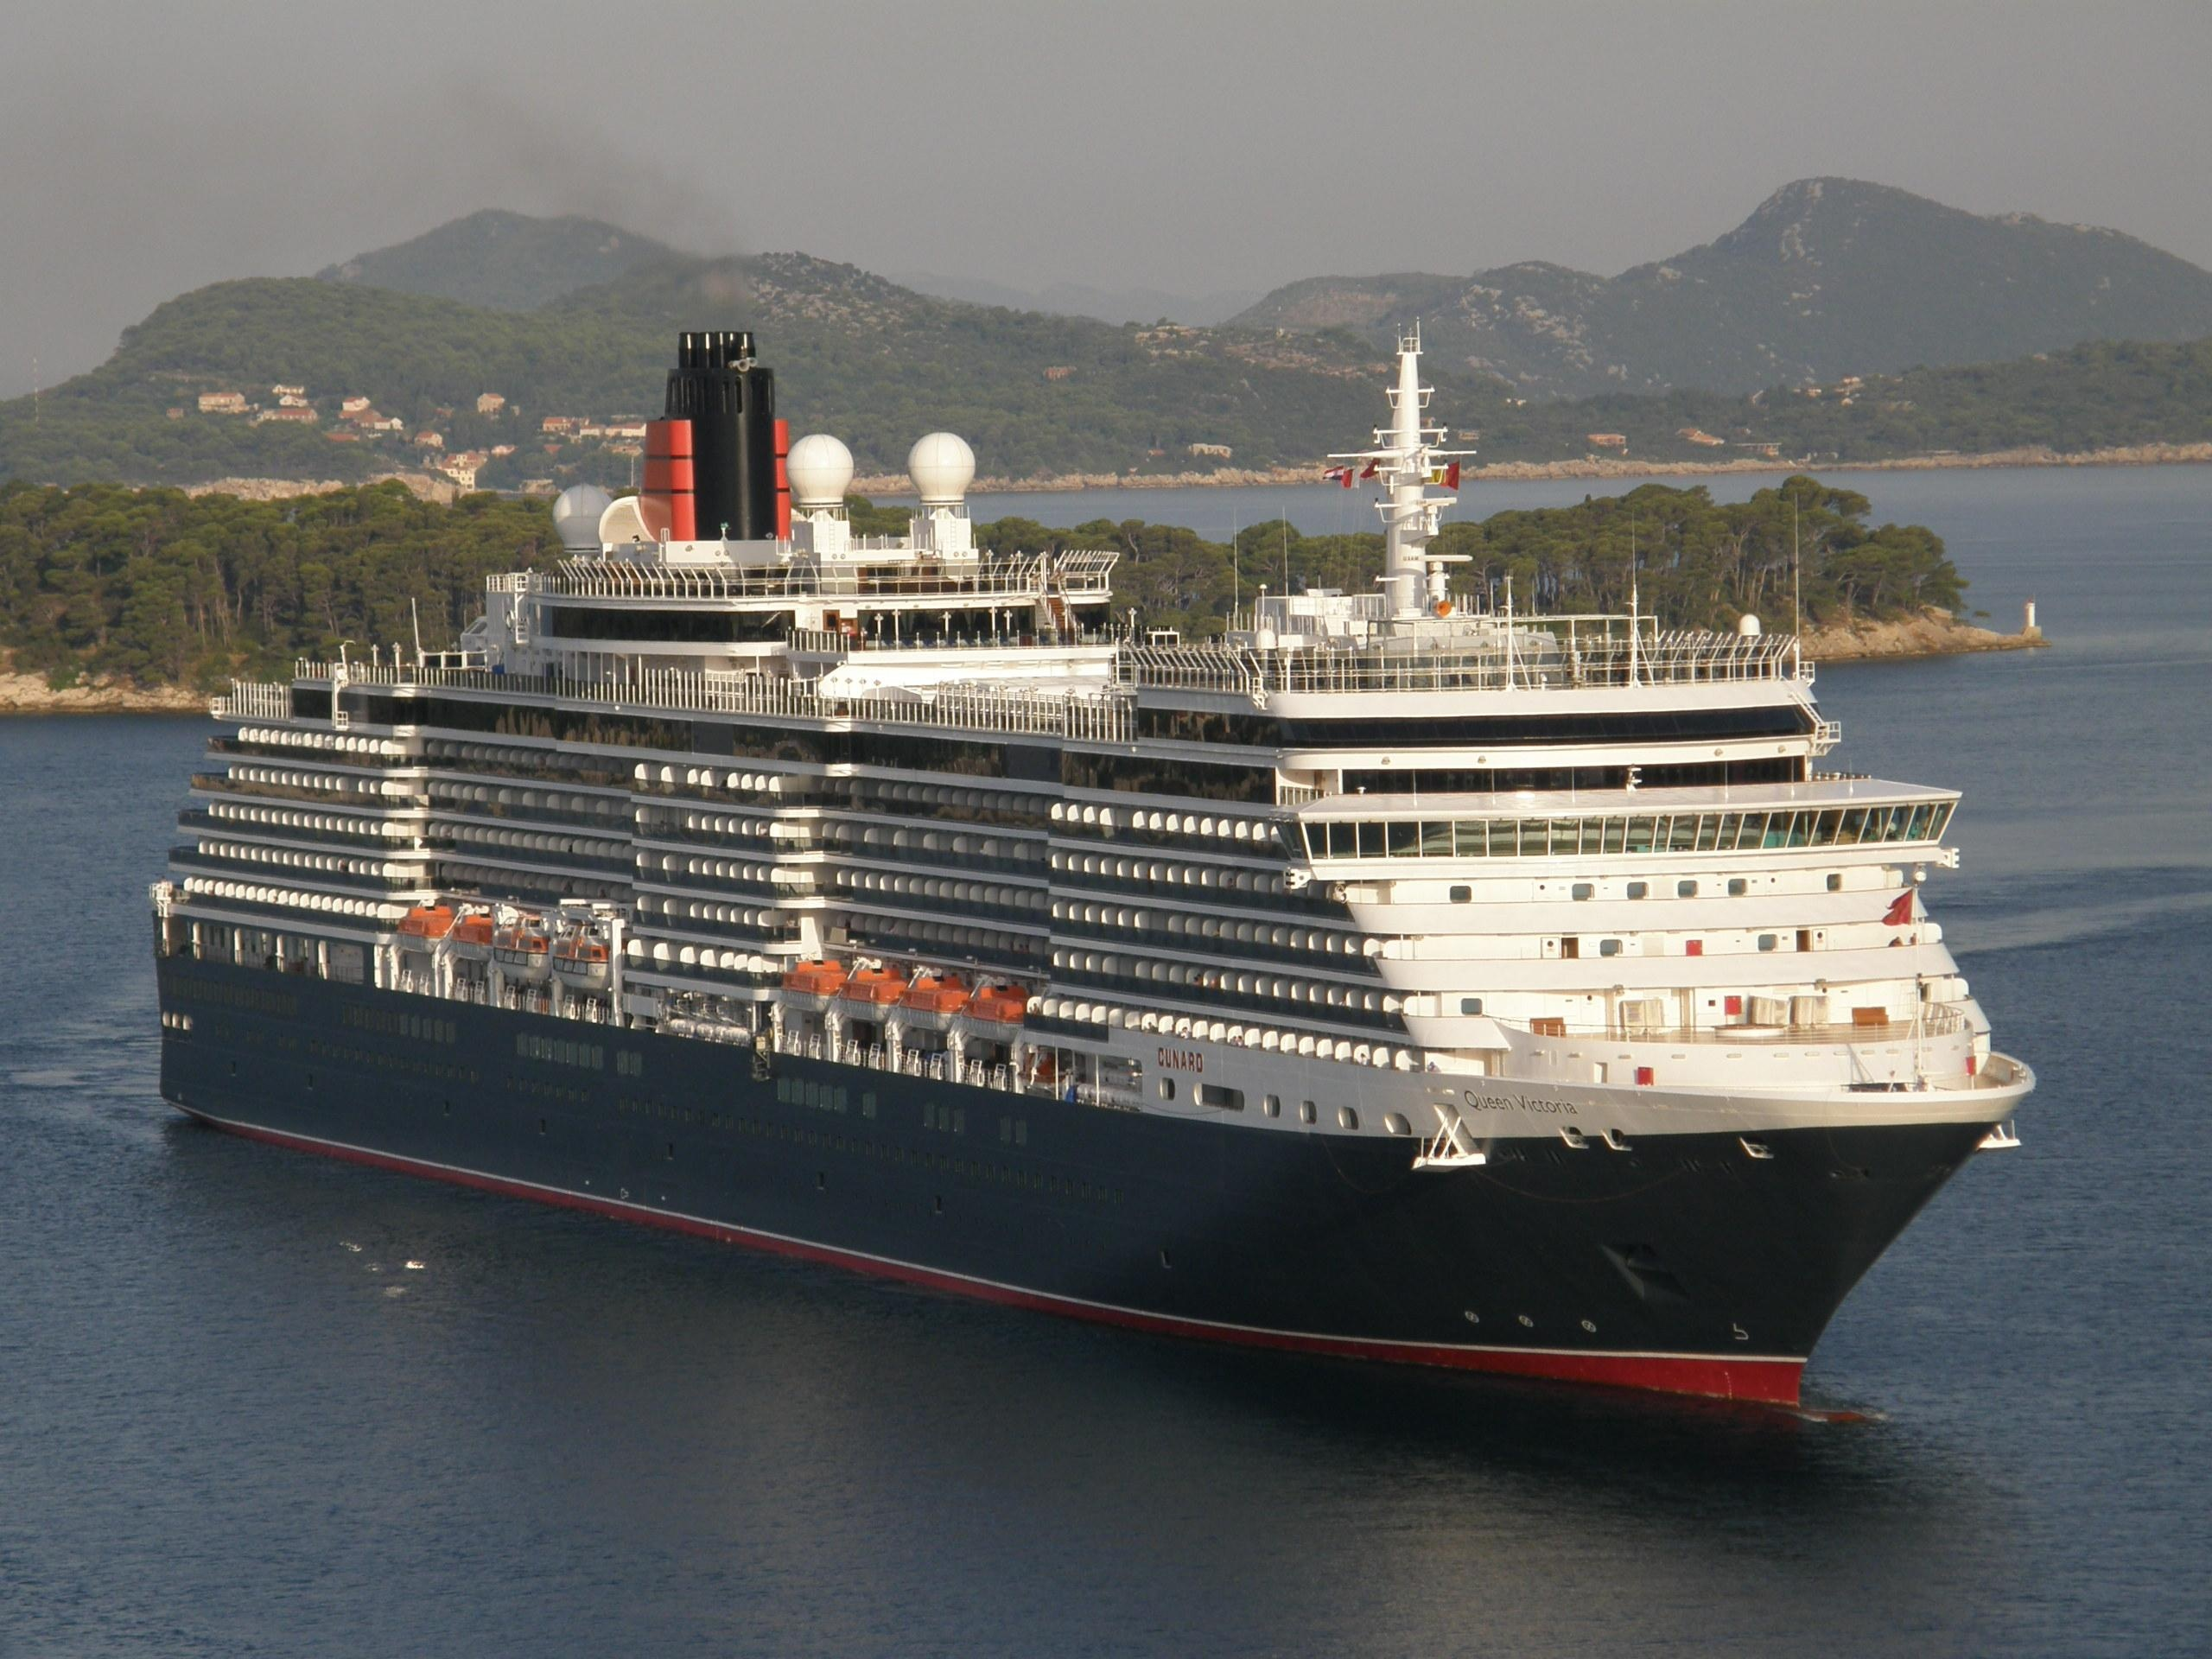youlun: (150, 282, 2034, 1406)
